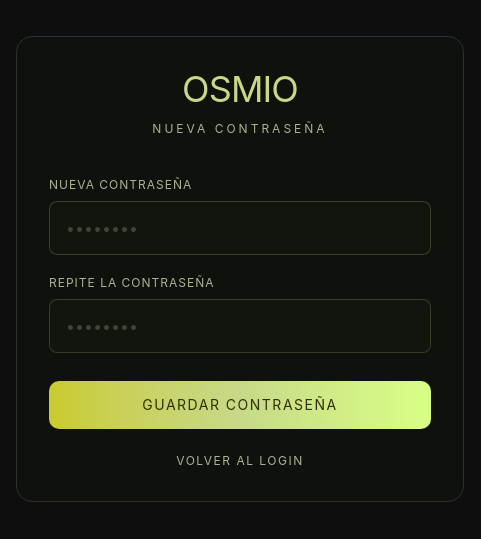
Test: ResetPasswordScreen › muestra error si las contraseñas no coinciden
Type "password123" into the password field labelled "Nueva contraseña" at x=240, y=228, box x1=49 y1=201 x2=431 y2=255
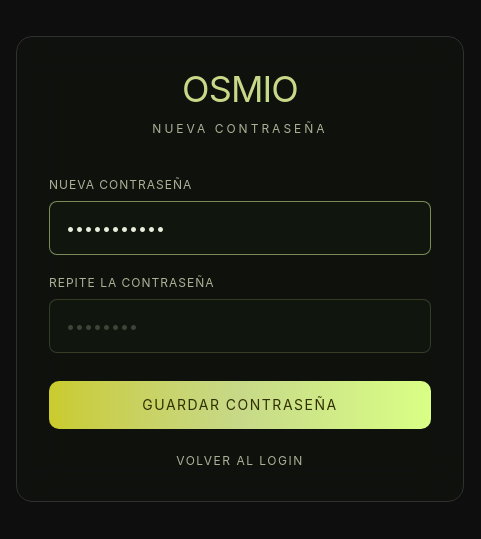
Type "different" into the password field labelled "Repite la contraseña" at x=240, y=326, box x1=49 y1=299 x2=431 y2=353
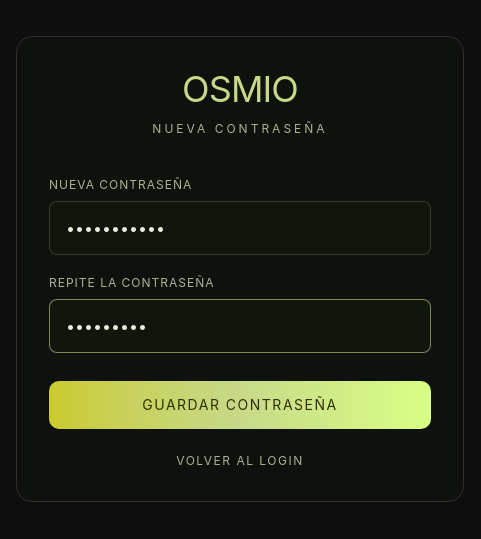
Click the button "GUARDAR CONTRASEÑA" at x=240, y=405, box x1=49 y1=381 x2=431 y2=429
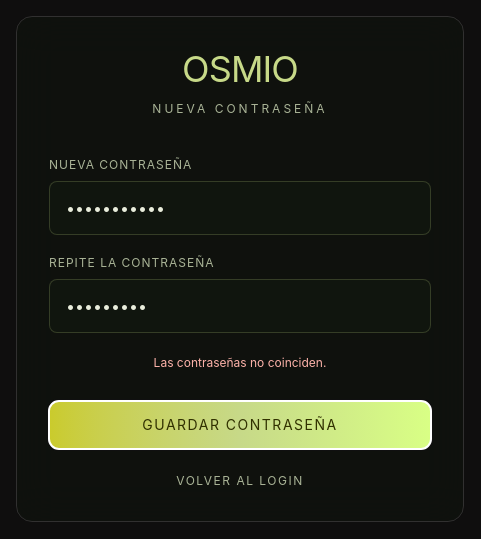
Expected: the text "Las contraseñas no coinciden." is shown, x1=154 y1=355 x2=326 y2=370
